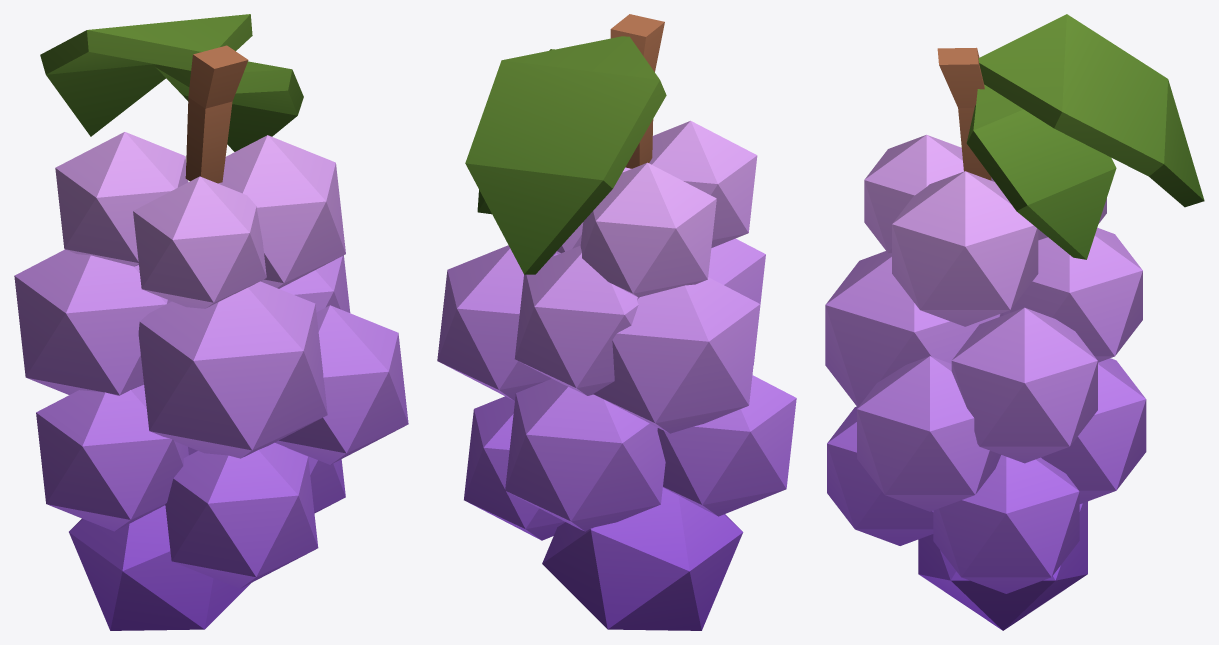
The model's file is grape.glb.
The picture shows the model from 3 angles, left to right: view 1: azimuth 30°, elevation 25°; view 2: azimuth 150°, elevation 25°; view 3: azimuth 270°, elevation 25°; orthographic projection. The views are drawn at different scales.
Visible parts, largest first — view 1: grape; view 2: grape; view 3: grape.
Boxes of the visible parts, x1=… form: grape: x1=14, y1=14, x2=408, y2=630; grape: x1=437, y1=14, x2=796, y2=630; grape: x1=825, y1=14, x2=1204, y2=630.
Size of the model in its own units: 0.4466 by 0.7771 by 0.4624.
Materials: 1 (1 with a texture image).
